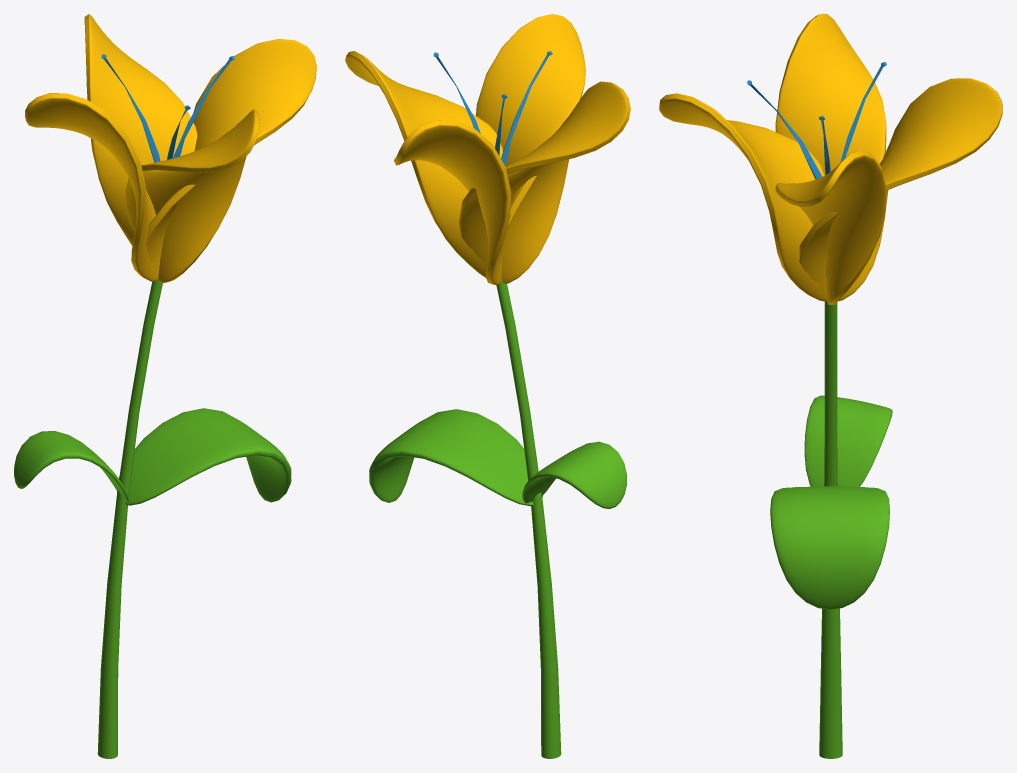
File: Dame_s Harlequin.fbx
3 views of the same model, side by side, from view 1: azimuth 30°, elevation 25°; view 2: azimuth 150°, elevation 25°; view 3: azimuth 270°, elevation 25° (orthographic). The views are drawn at different scales.
Visible parts, largest first — view 1: Null_1; view 2: Null_1; view 3: Null_1.
Boxes of the visible parts, box(x1,y1,x2,y2) form: Null_1: box(14, 14, 316, 758); Null_1: box(345, 14, 630, 758); Null_1: box(659, 14, 1002, 758).
Size of the model in its own units: 468 by 1066 by 469.
1 material, 1 textured.
